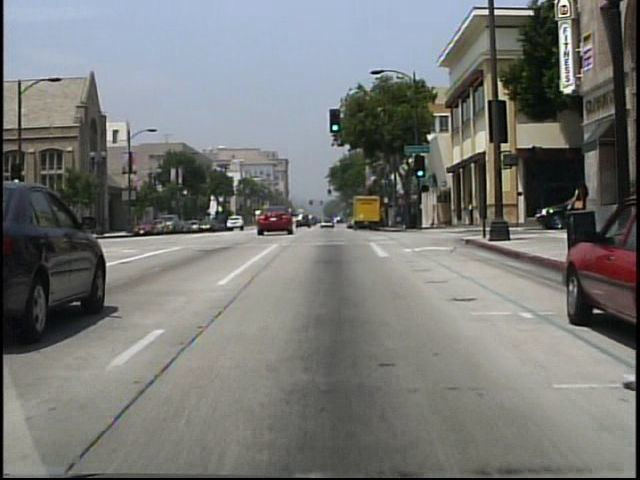person: (564, 177, 587, 242), (468, 199, 476, 230)
